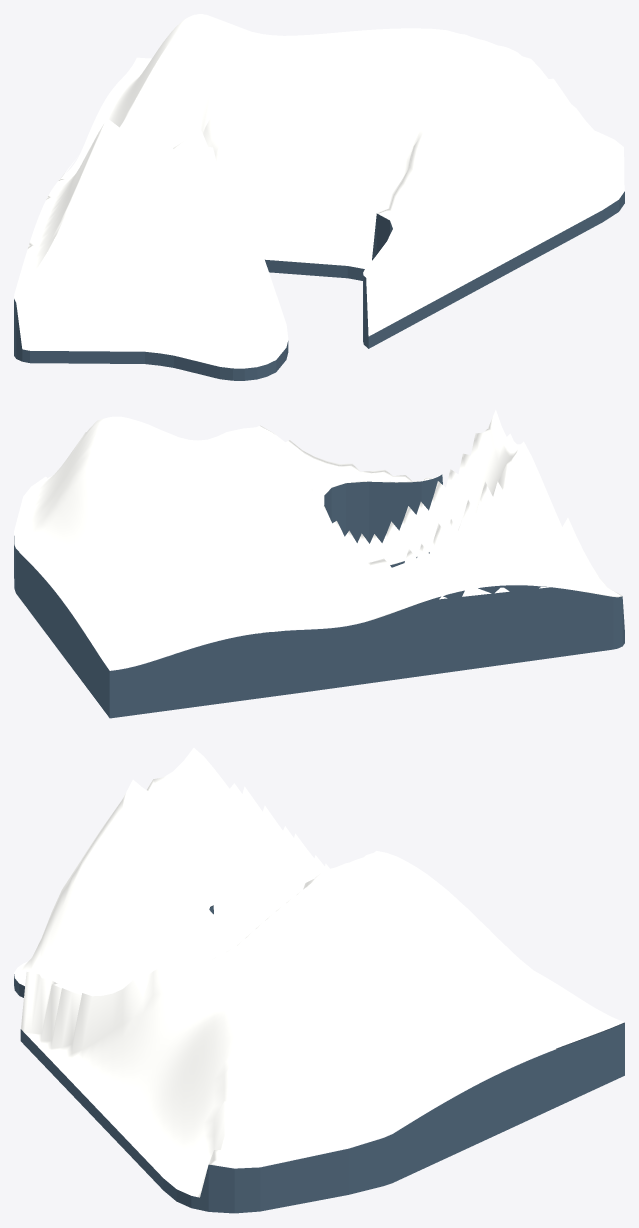
Rendered from landmark-heydar-aliyev-center.glb.
The picture shows the model from 3 angles, top to bottom: view 1: azimuth 30°, elevation 25°; view 2: azimuth 150°, elevation 25°; view 3: azimuth 270°, elevation 25°; orthographic projection. The views are drawn at different scales.
Visible parts, largest first — view 1: heydar-aliyev-center; view 2: heydar-aliyev-center; view 3: heydar-aliyev-center.
Boxes of the visible parts, left/top/right/bottom form: heydar-aliyev-center: left=14, top=14, right=624, bottom=380; heydar-aliyev-center: left=14, top=410, right=624, bottom=718; heydar-aliyev-center: left=14, top=748, right=624, bottom=1213.
Size of the model in its own units: 214 by 68.24 by 181.
